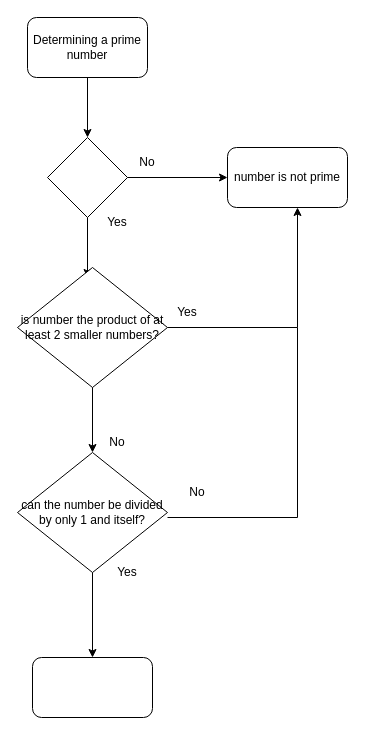
Image size: 365x735. Some labels were removed from this diagram. Each missing label, with the centre of its shape:
"is number > 1?" goes at [87,177].
"your number is prime" goes at [92,687].
